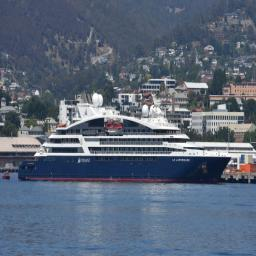cruises: (17, 87, 234, 188)
